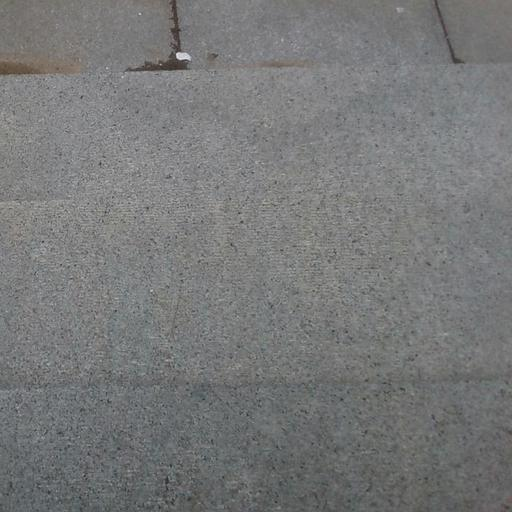Stairs: (0, 66, 512, 512)
